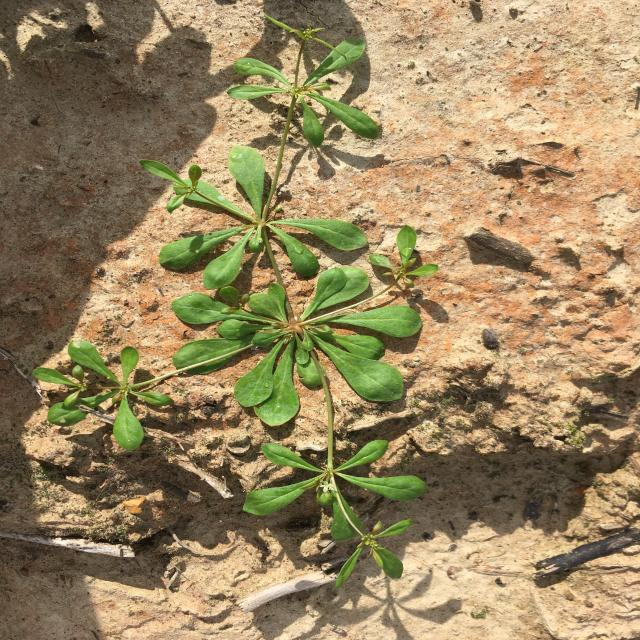Carpetweed: (32, 13, 439, 589)
